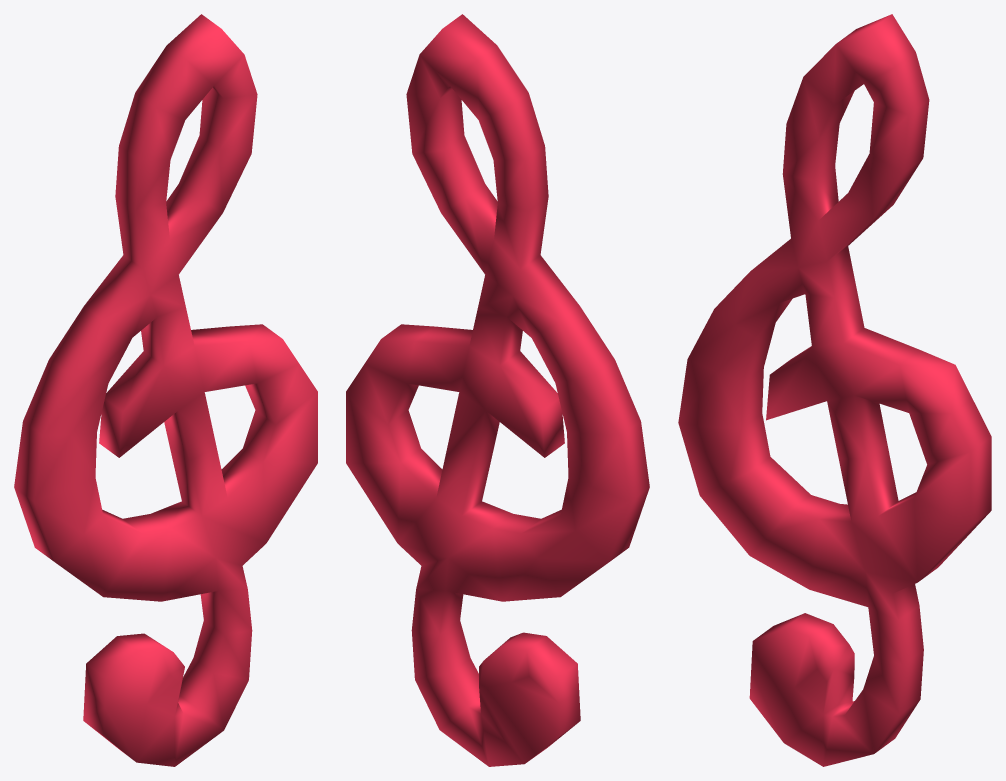
Rendered from Key_01.fbx.
3 renders of one model, left to right at view 1: azimuth 30°, elevation 25°; view 2: azimuth 150°, elevation 25°; view 3: azimuth 330°, elevation 25°, orthographic. The views are drawn at different scales.
Visible parts, largest first — view 1: Key_01; view 2: Key_01; view 3: Key_01.
Boxes of the visible parts, left/top/right/bottom form: Key_01: left=14, top=14, right=317, bottom=766; Key_01: left=346, top=14, right=649, bottom=766; Key_01: left=678, top=14, right=991, bottom=766.
Size of the model in its own units: 130 by 318 by 16.4.
